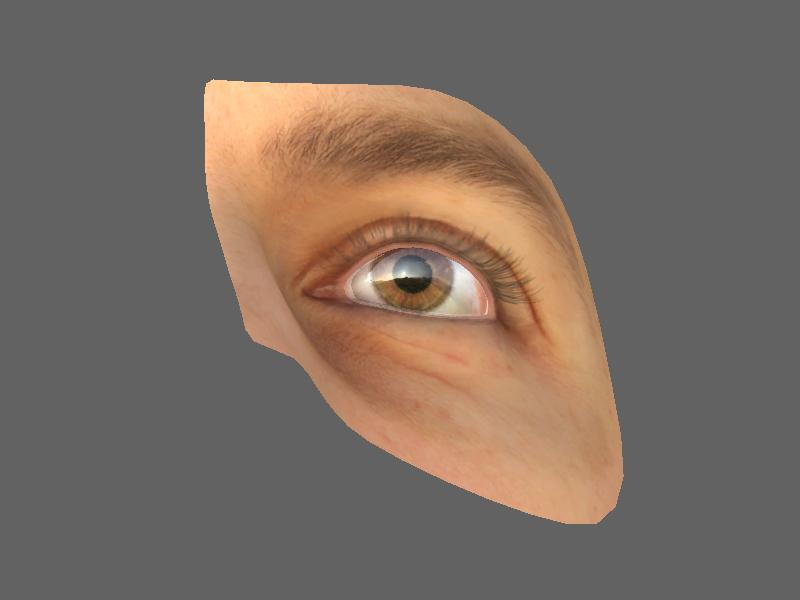iris: (369, 245, 460, 309)
